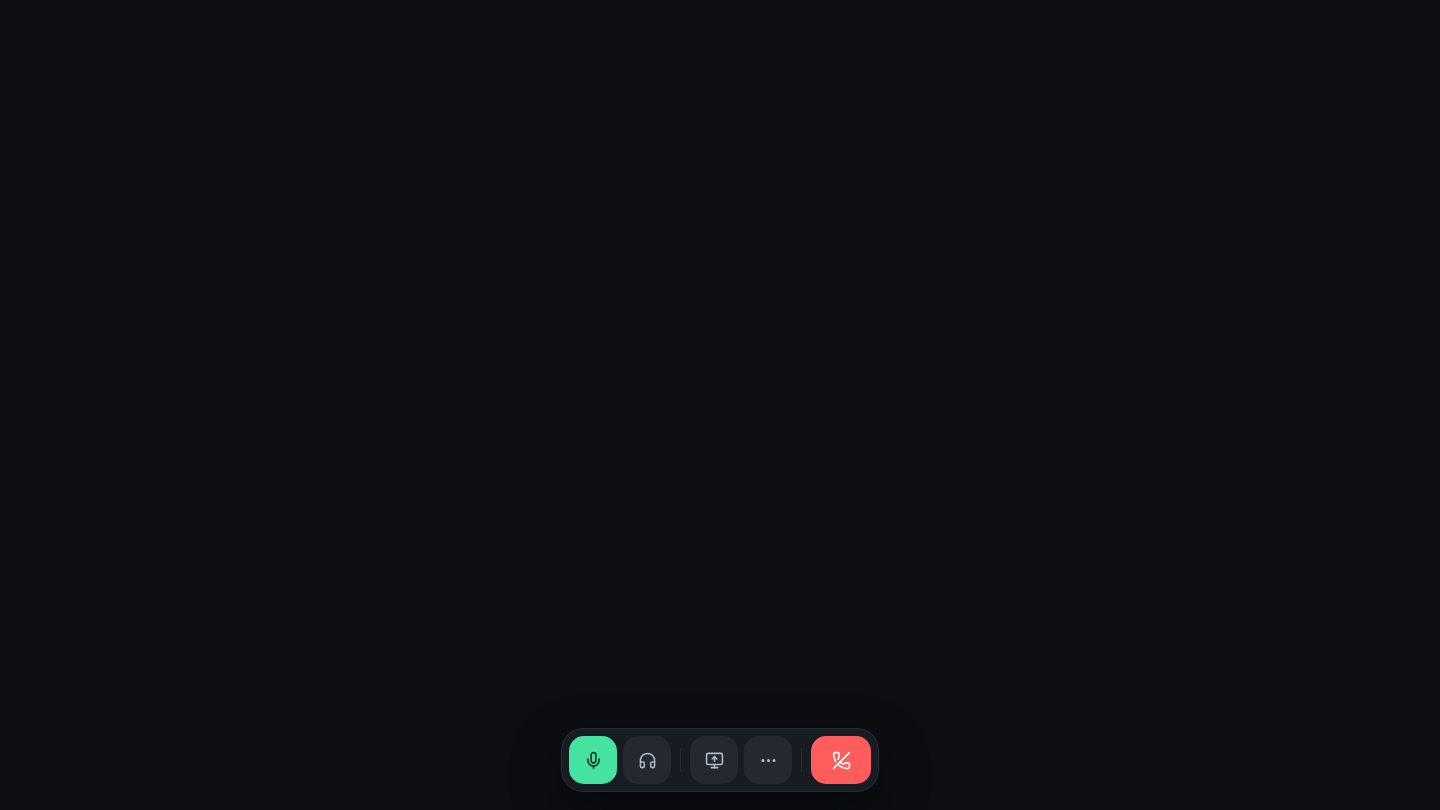
it: Dock › asks the size and the frames of the screen in a panel first, like a quick setting, then lets Windows ask what to show
Later steps or results of the test are not shown.
Click the button named "Показать экран".
click(714, 760)  # box 690,736 -> 738,784
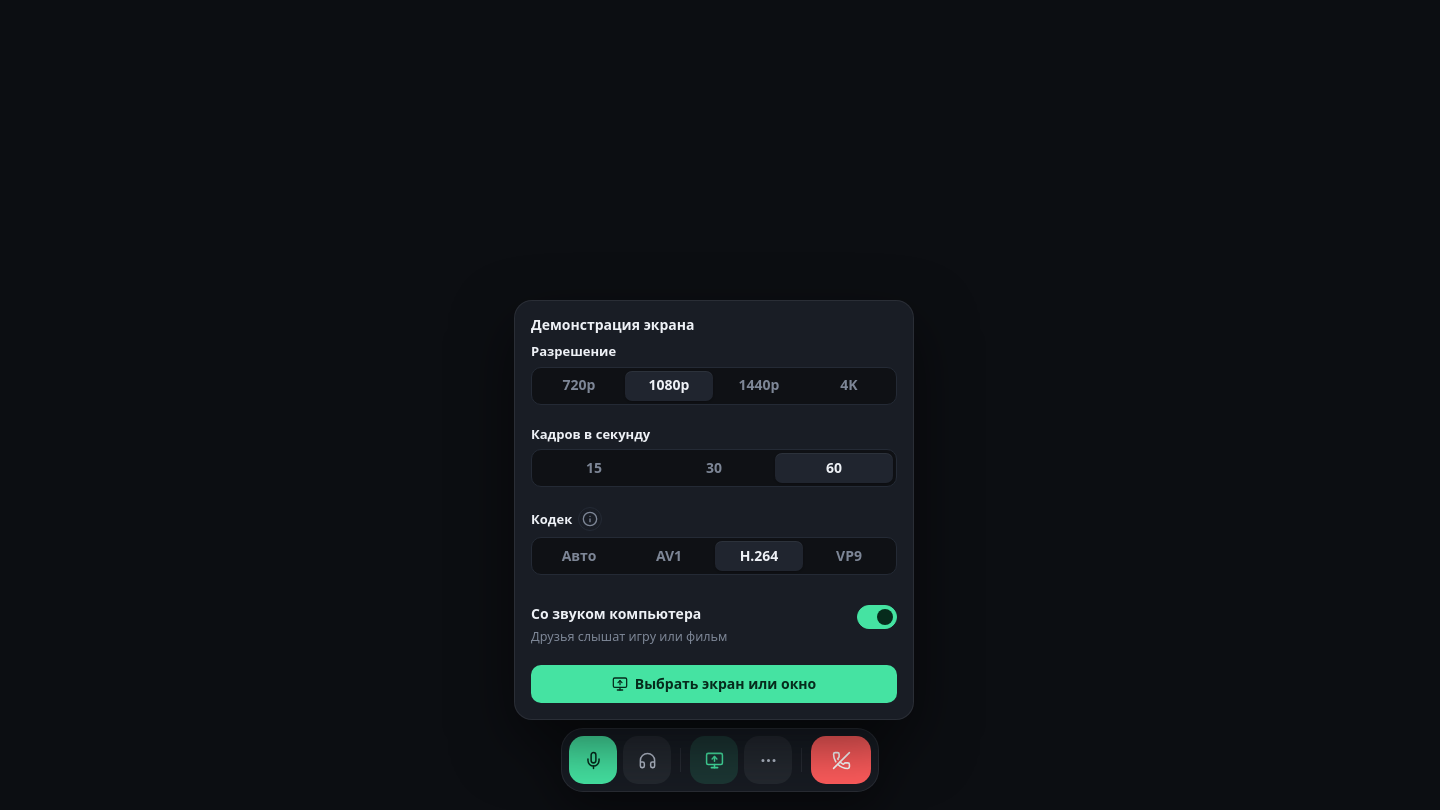
Click the button "1440p".
click(759, 386)  # box 715,371 -> 803,401
Click the button "30".
click(714, 468)  # box 655,454 -> 773,484
Click the button "Выбрать экран или окно".
click(714, 684)  # box 531,665 -> 897,703
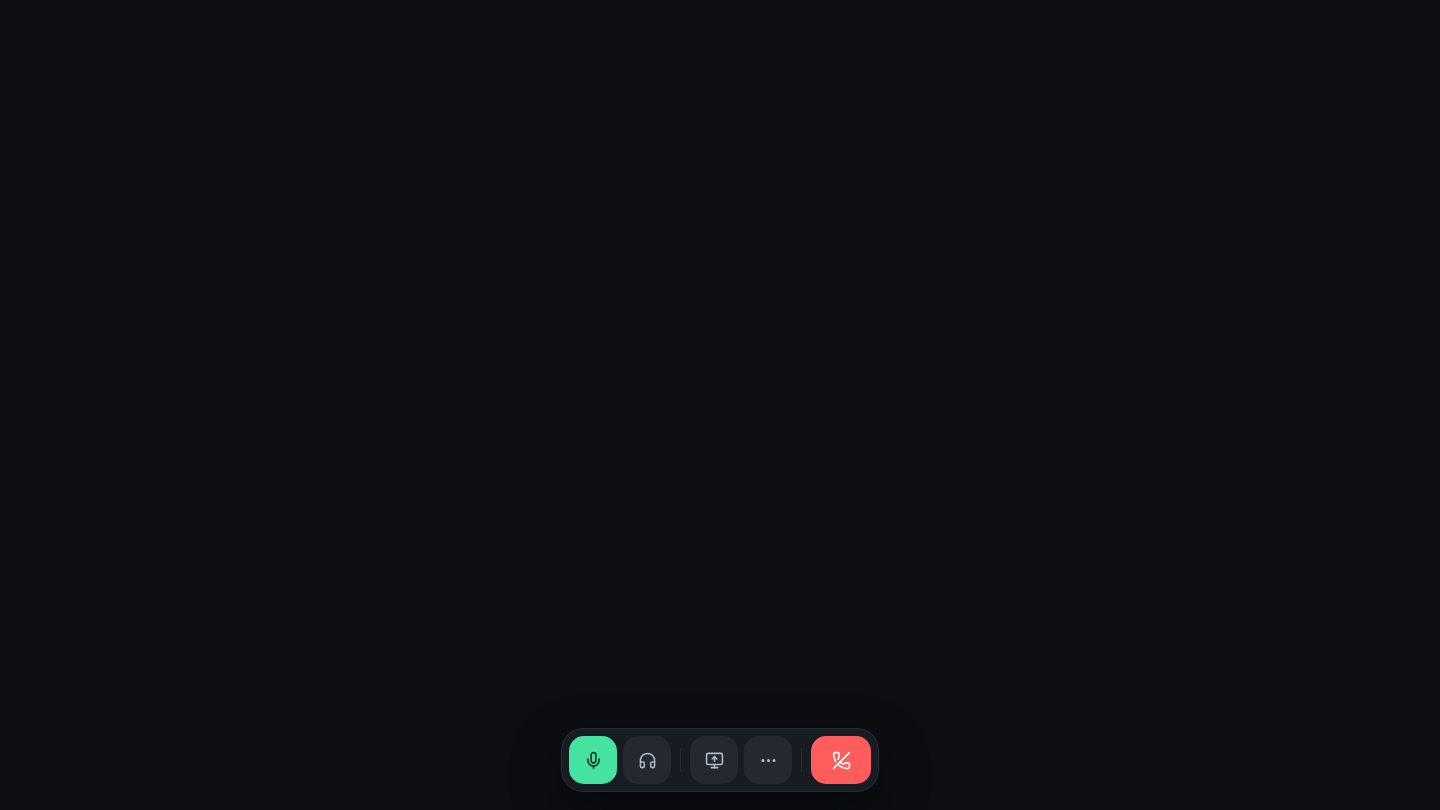
Expected: the text "Демонстрация экрана" is gone
